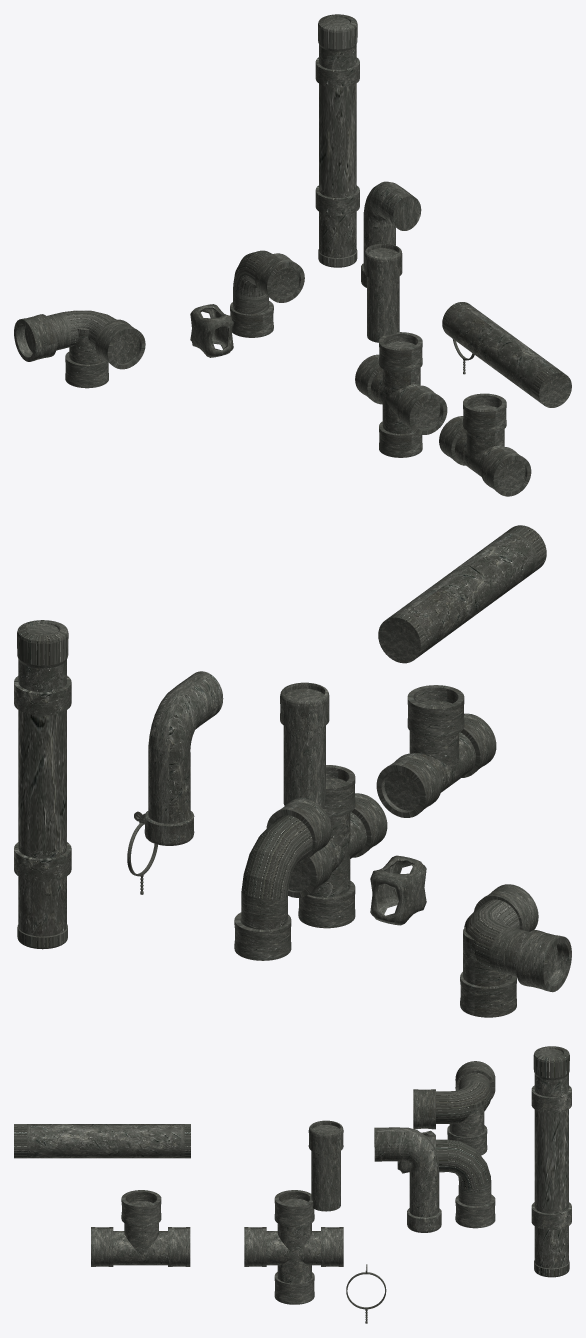
File: Model_Rør.FBX
The picture shows the model from 3 angles, top to bottom: view 1: azimuth 30°, elevation 25°; view 2: azimuth 150°, elevation 25°; view 3: azimuth 270°, elevation 25°; orthographic projection. The views are drawn at different scales.
Visible parts, largest first — view 1: Cylinder085, rettrør, rør_med_ting, svingrør_med_ting, Cylinder101, Cylinder086, wtf, detaljertlangrør, Cylinder100, Cylinder103, Cylinder091, Cylinder089 (+13 smaller); view 2: Cylinder085, rettrør, svingrør_med_ting, Cylinder086, rør_med_ting, Cylinder101, wtf, detaljertlangrør, Cylinder100, Cylinder103, Cylinder096, Cylinder099 (+13 smaller); view 3: Cylinder085, rettrør, svingrør_med_ting, rør_med_ting, Cylinder086, Cylinder101, Cylinder089, detaljertlangrør, Cylinder096, Cylinder100, Cylinder088, Cylinder091 (+11 smaller).
Part boxes in pixels (box(x1,y1,x2,y2)): Cylinder085: box(318, 14, 357, 267); rettrør: box(442, 302, 571, 407); rør_med_ting: box(364, 243, 402, 342); svingrør_med_ting: box(361, 181, 421, 287); Cylinder101: box(25, 310, 139, 364); Cylinder086: box(233, 250, 299, 314); wtf: box(190, 304, 233, 357); detaljertlangrør: box(315, 57, 359, 215); Cylinder100: box(463, 393, 506, 434); Cylinder103: box(14, 314, 57, 361); Cylinder091: box(379, 332, 422, 372); Cylinder089: box(382, 341, 420, 433); Cylinder085: box(17, 620, 68, 949); rettrør: box(378, 525, 546, 663); svingrør_med_ting: box(144, 671, 223, 845); Cylinder086: box(241, 815, 312, 929); rør_med_ting: box(280, 682, 329, 807); Cylinder101: box(464, 899, 557, 979); wtf: box(370, 855, 426, 925); detaljertlangrør: box(14, 675, 71, 881); Cylinder100: box(407, 685, 464, 737); Cylinder103: box(516, 930, 571, 992); Cylinder096: box(384, 732, 475, 810); Cylinder099: box(376, 753, 441, 817); Cylinder085: box(533, 1046, 569, 1277); rettrør: box(14, 1124, 190, 1158); svingrør_med_ting: box(374, 1127, 441, 1232); rør_med_ting: box(308, 1120, 343, 1211); Cylinder086: box(436, 1139, 491, 1206); Cylinder101: box(436, 1072, 491, 1123); Cylinder089: box(277, 1198, 311, 1283); detaljertlangrør: box(531, 1085, 571, 1229); Cylinder096: box(113, 1231, 167, 1265); Cylinder100: box(121, 1190, 161, 1227); Cylinder088: box(266, 1231, 320, 1265); Cylinder091: box(274, 1190, 314, 1227).
Bounding box in the file's own units: 242 × 183 × 333.
Materials: 1 (1 with a texture image).
